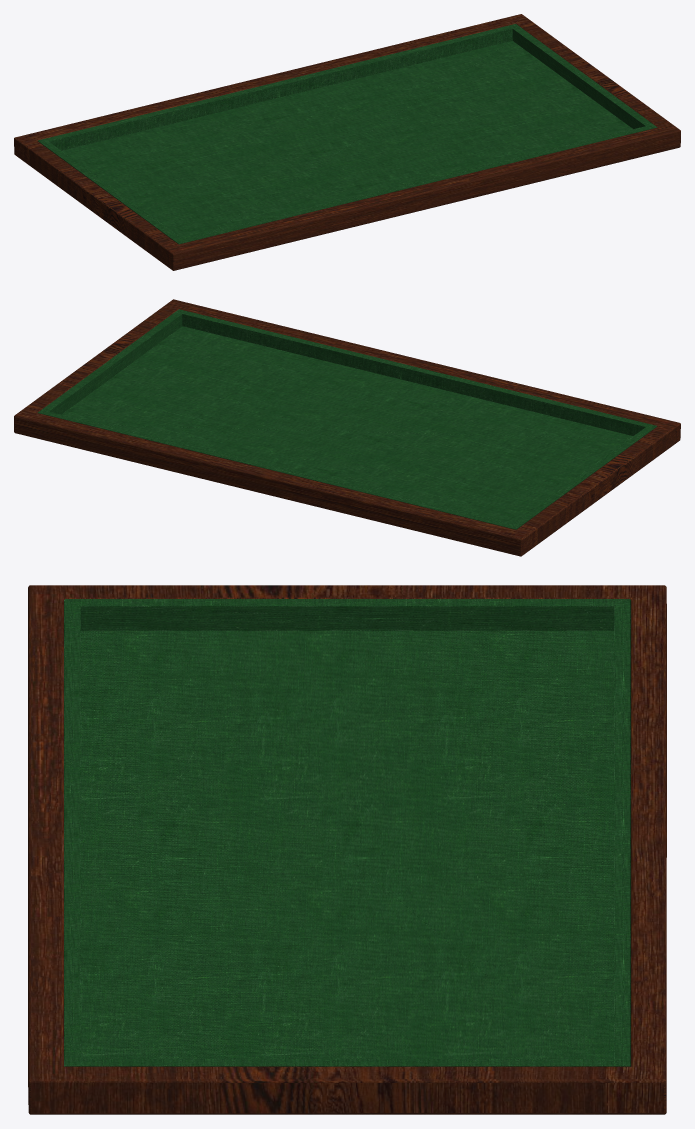
The model's file is tableBed.glb.
3 renders of one model, top to bottom at view 1: azimuth 30°, elevation 25°; view 2: azimuth 150°, elevation 25°; view 3: azimuth 270°, elevation 25°, orthographic. The views are drawn at different scales.
Parts seen in each view (by area): view 1: cushion, talbe-top; view 2: cushion, talbe-top; view 3: cushion, talbe-top.
Part boxes in pixels (x1,y1,x2,y2): cushion: [37, 24, 657, 244]; talbe-top: [14, 14, 680, 270]; cushion: [38, 309, 657, 529]; talbe-top: [14, 299, 680, 556]; cushion: [64, 599, 630, 1066]; talbe-top: [28, 585, 666, 1114].
Bounding box in the file's own units: 13.16 × 0.4378 × 7.16.
2 materials, 2 textured.
